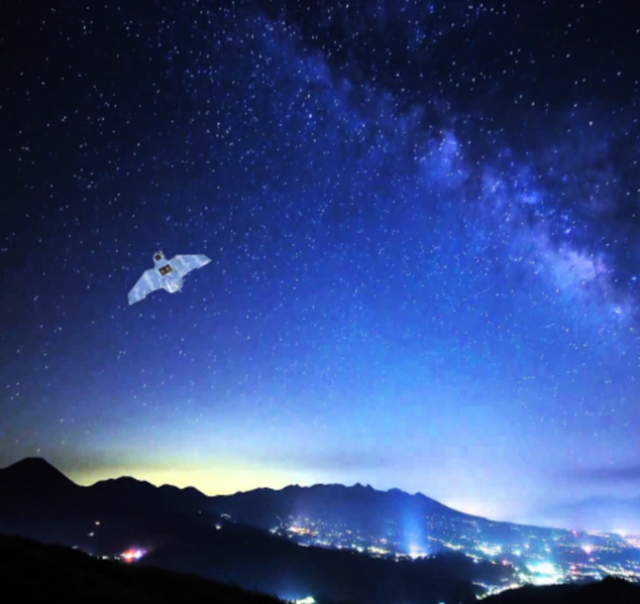military drone: (126, 249, 211, 305)
